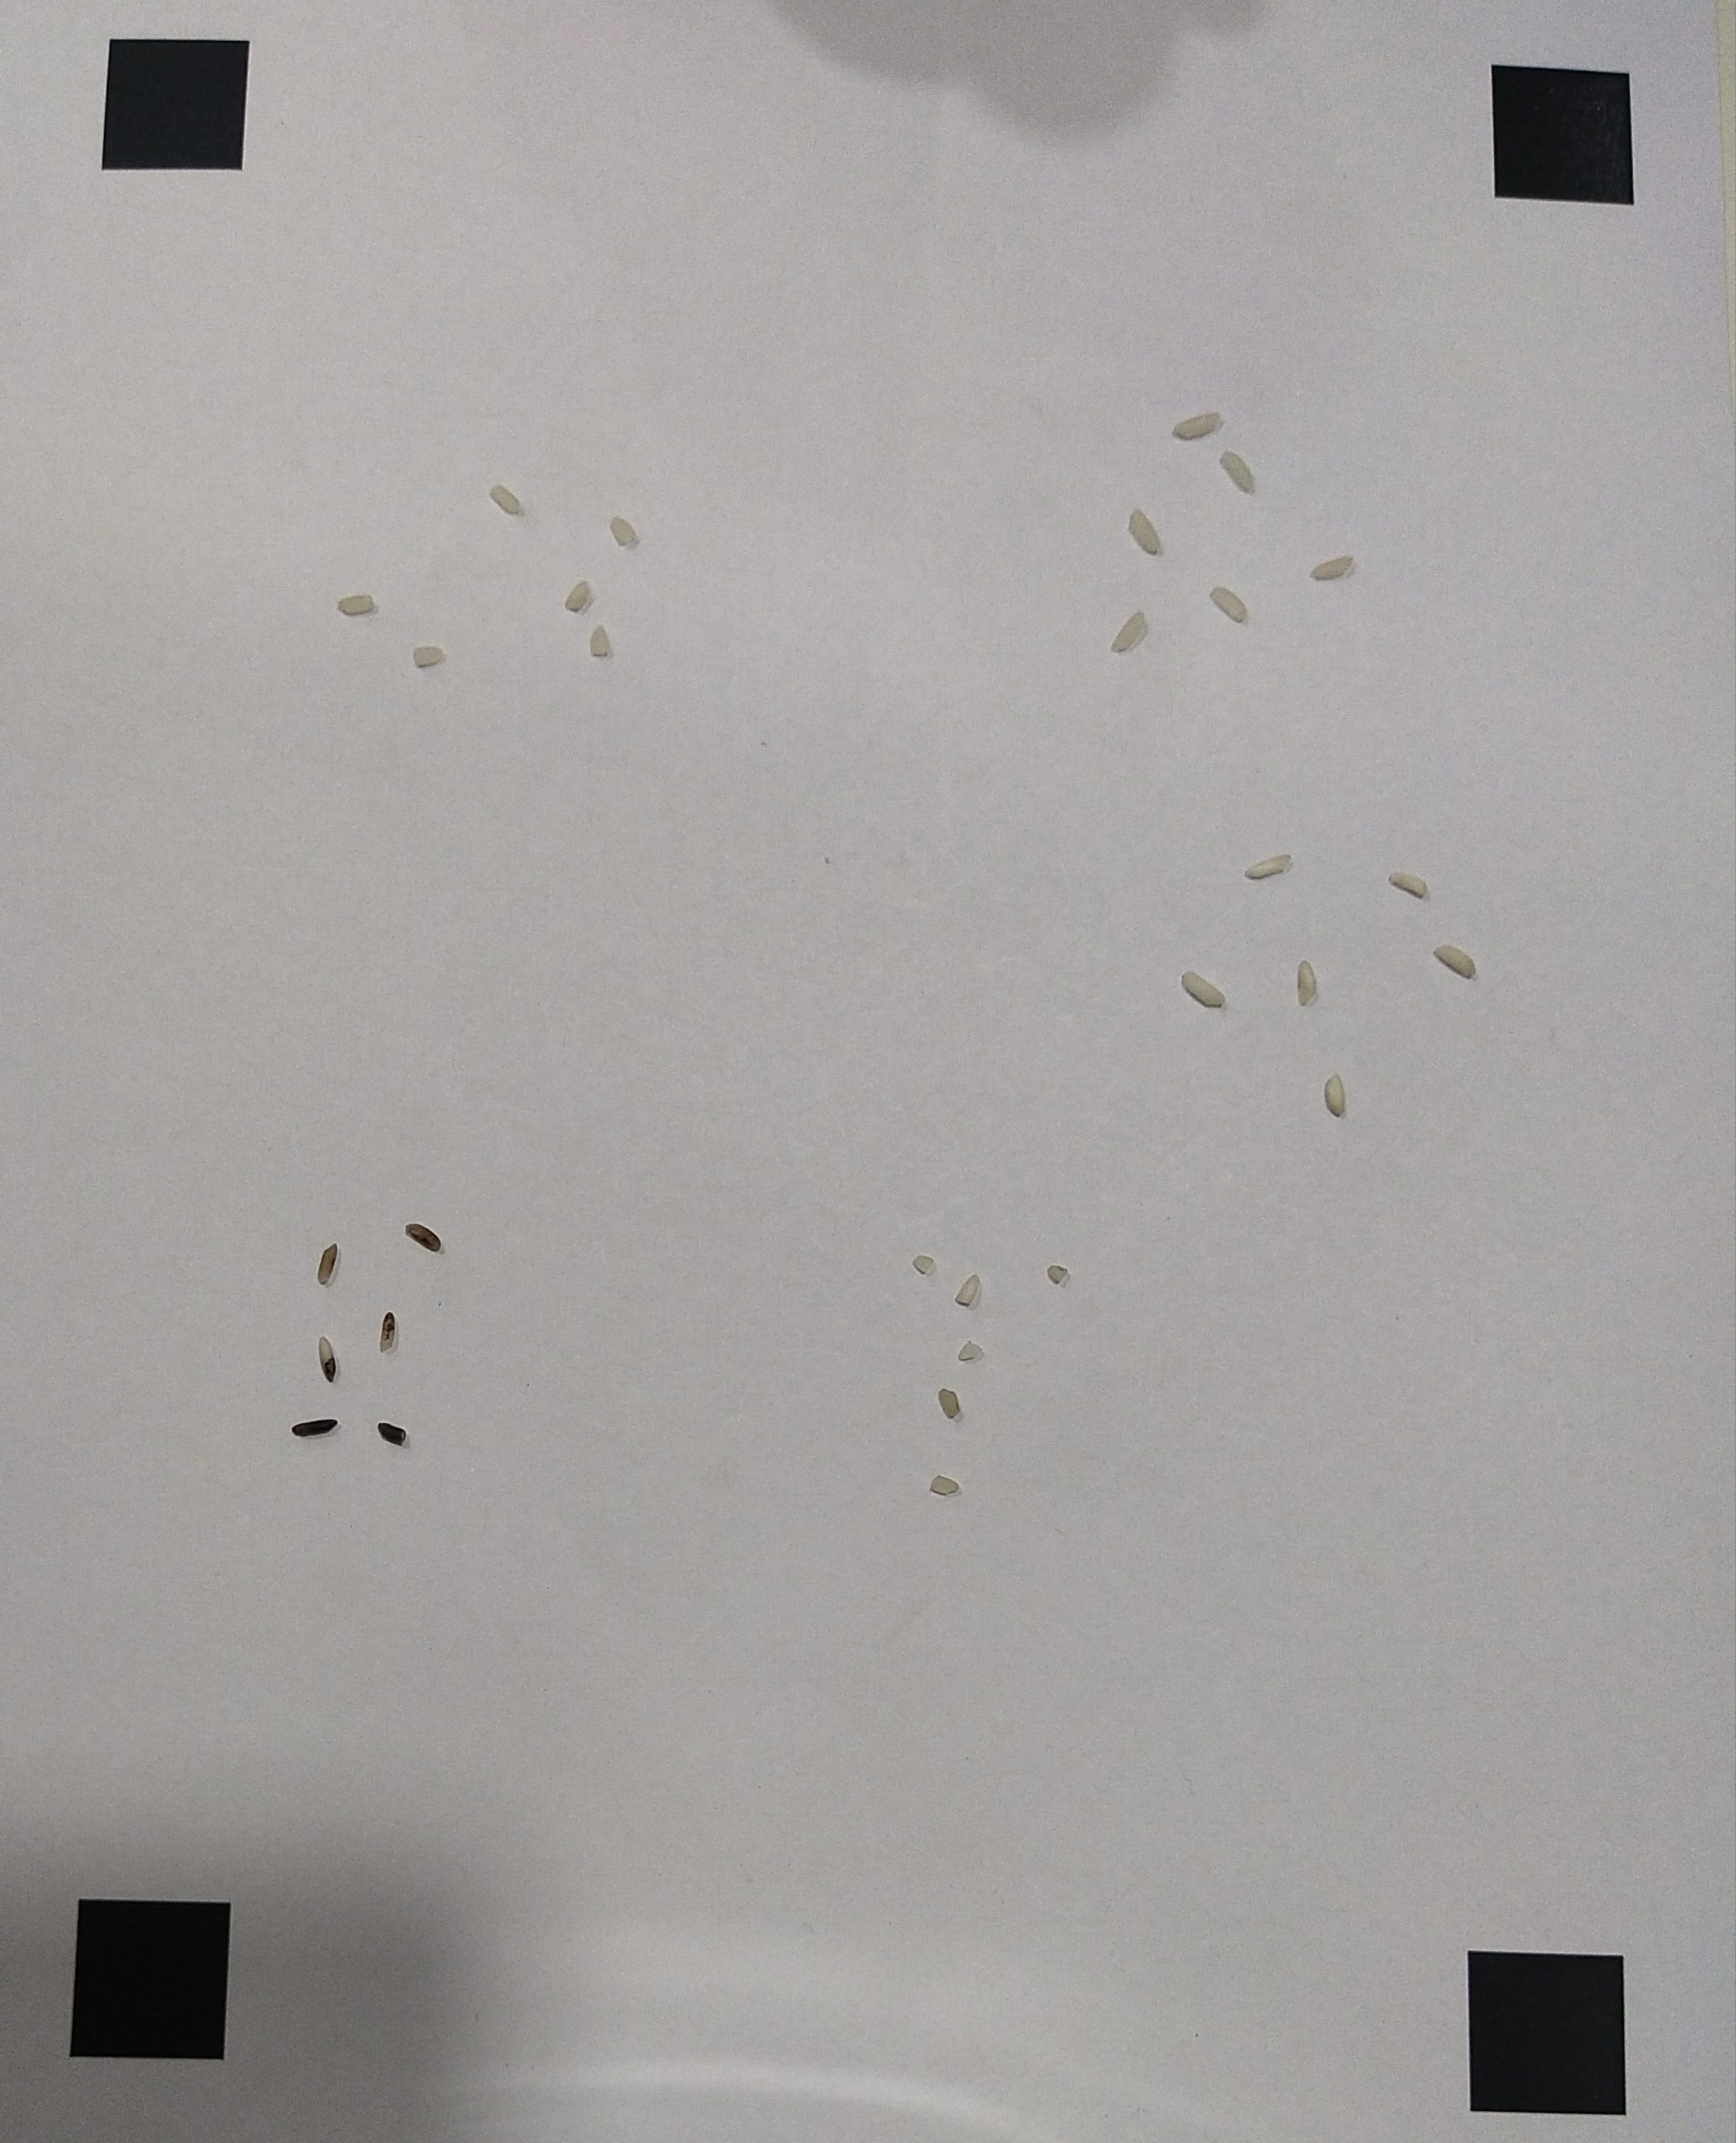broken: (487, 482, 524, 519), (563, 577, 592, 613), (609, 514, 638, 549), (953, 1273, 981, 1305), (335, 593, 374, 615), (588, 623, 609, 659), (937, 1387, 960, 1419), (928, 1474, 960, 1495), (413, 646, 445, 664), (912, 1252, 934, 1273), (1047, 1263, 1068, 1282), (962, 1341, 981, 1360)
chalky: (1242, 852, 1293, 878), (1321, 1068, 1346, 1119), (1389, 871, 1430, 901), (1297, 956, 1316, 1006)
discolor: (317, 1334, 342, 1390), (406, 1224, 443, 1254), (315, 1242, 338, 1288), (289, 1419, 338, 1438), (374, 1420, 407, 1445), (377, 1312, 397, 1351)
good: (1109, 609, 1150, 652), (1182, 969, 1226, 1006), (1433, 944, 1476, 979), (1127, 508, 1160, 553), (1208, 588, 1249, 623), (1221, 450, 1252, 492), (1174, 411, 1222, 437), (1309, 554, 1355, 581)
